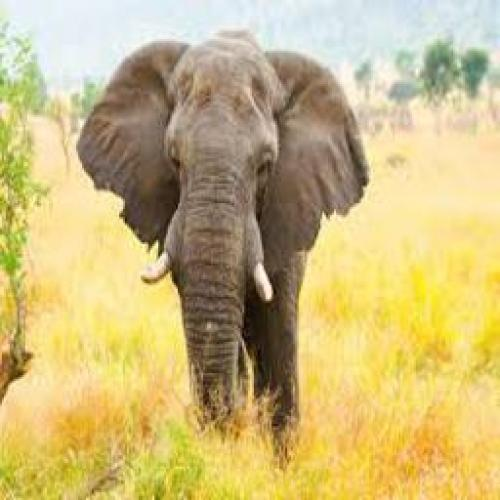african_elephant-endangered: (73, 33, 373, 473)
